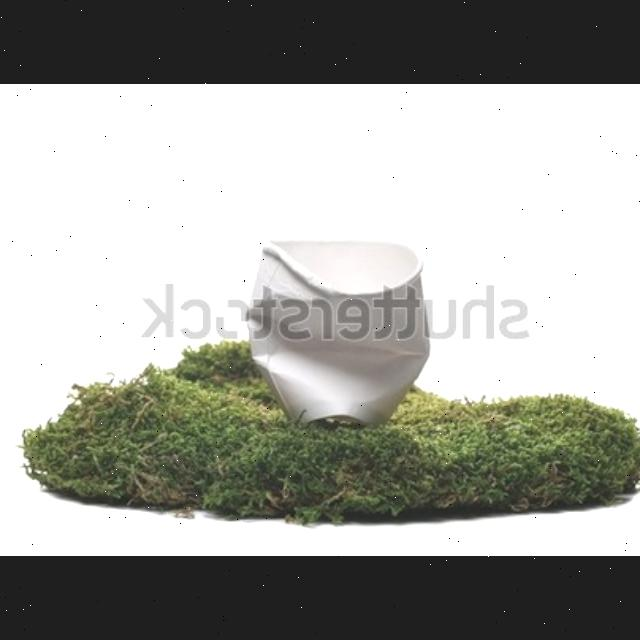trash: (243, 238, 434, 422)
